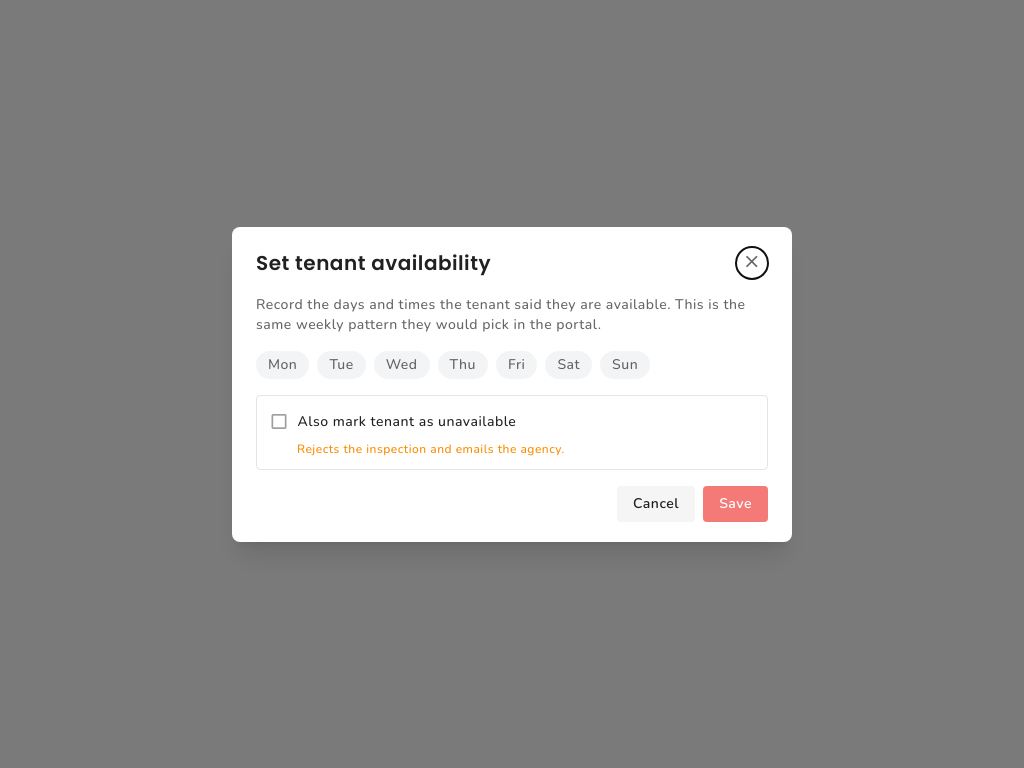
Test: TenantAvailabilityDialog › the decline checkbox › asks for confirmation before rejecting the inspection
The width and height of the screenshot is (1024, 768).
Click the button "Mon" at (283, 364), box left=256, top=350, right=309, bottom=378
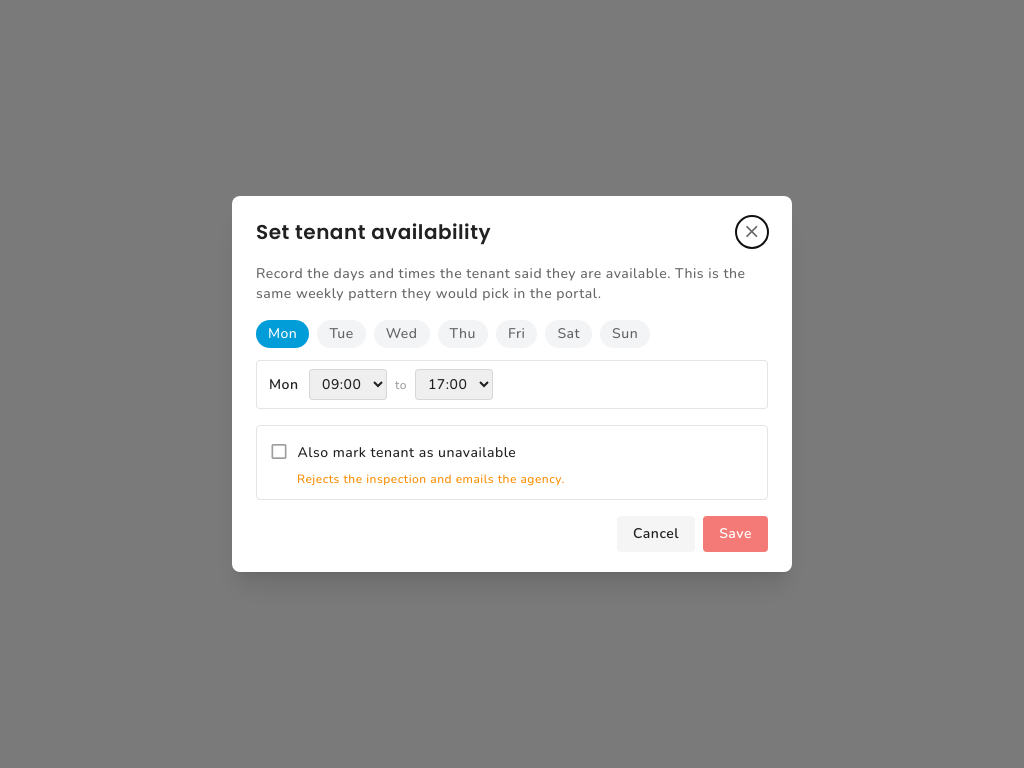
Click the checkbox labelled "Also mark tenant as unavailable" at (393, 452), box left=269, top=438, right=516, bottom=467
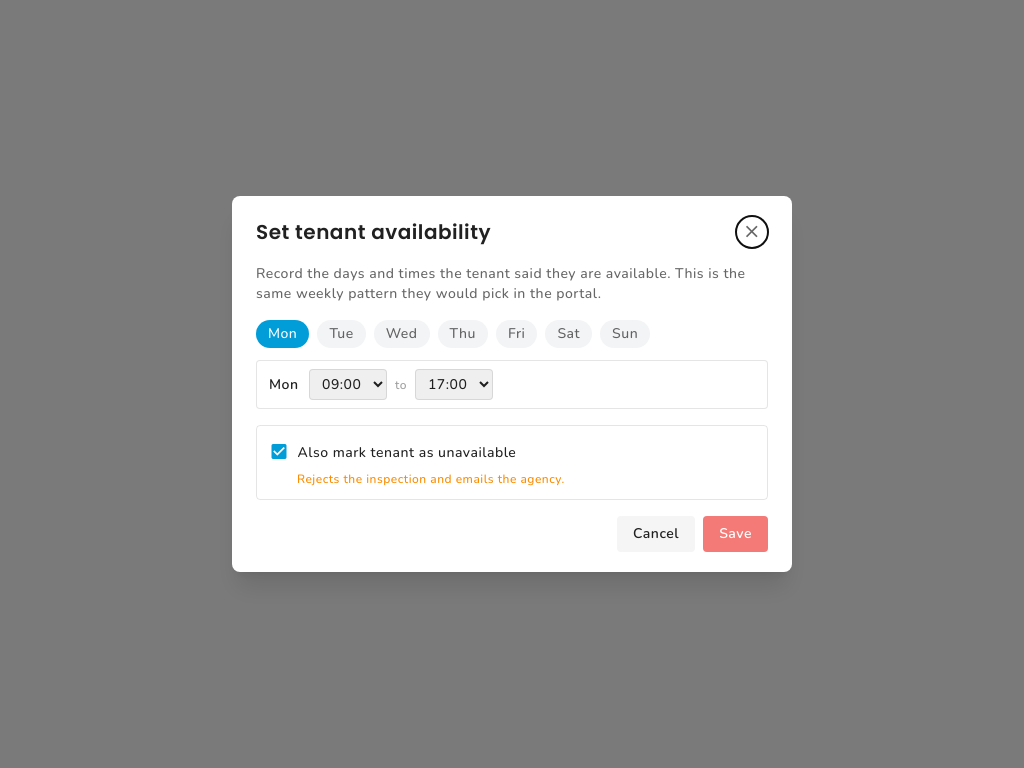
Click the button "Save" at (736, 534), box left=703, top=516, right=768, bottom=552
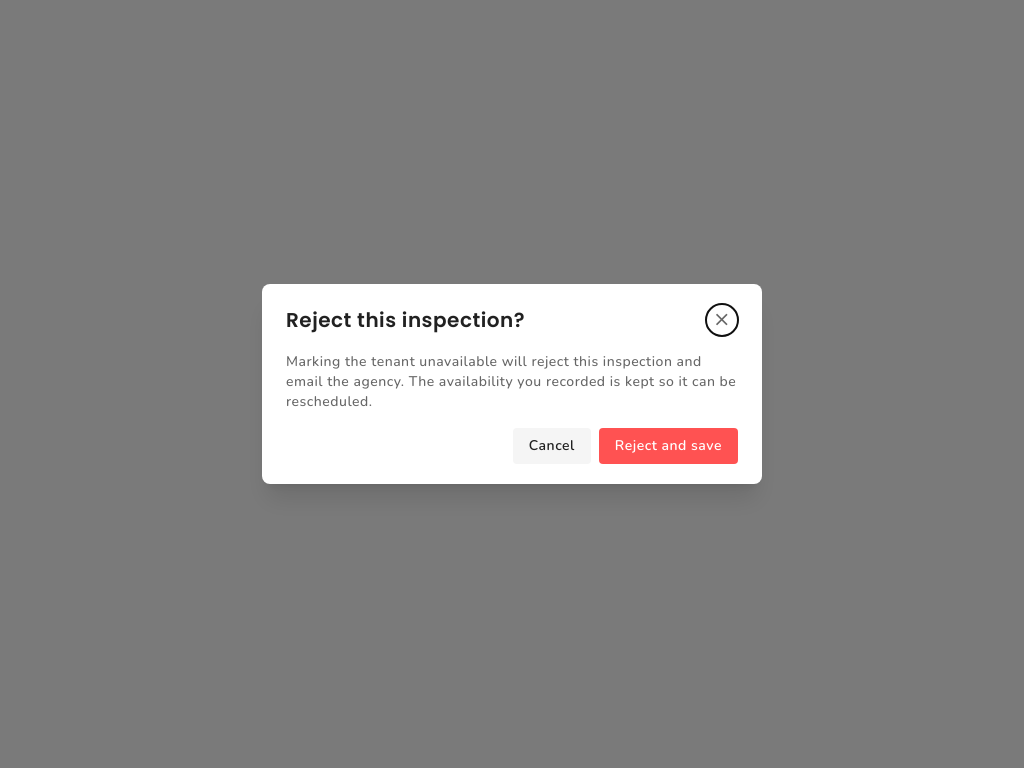
expect the heading "Reject this inspection?" is shown: met, box left=286, top=306, right=525, bottom=334
